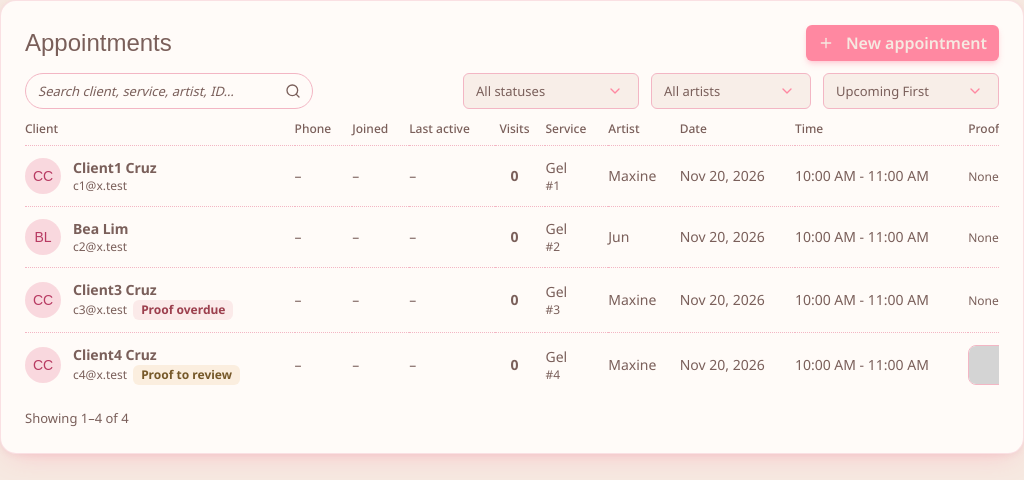
Scenario: Appointments table › searches by client, service, artist or ID
expect the table named "Appointments" is shown: met, box [25,121,999,397]
// The search asks the server once typing pauses
Type "bea" into the search field named "Search appointments" at (169, 91), box [25,73,313,109]
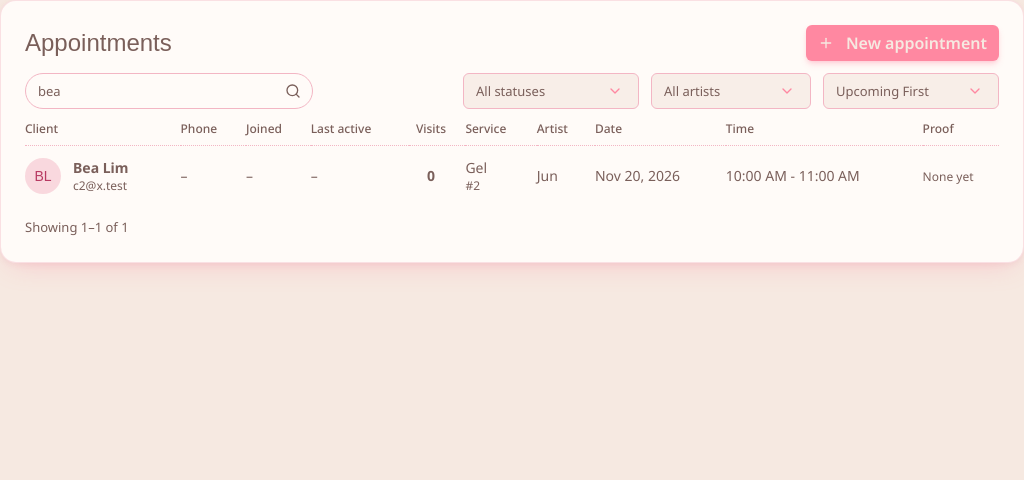
Replace the text in the search field named "Search appointments" with "#3" at (169, 91), box [25,73,313,109]
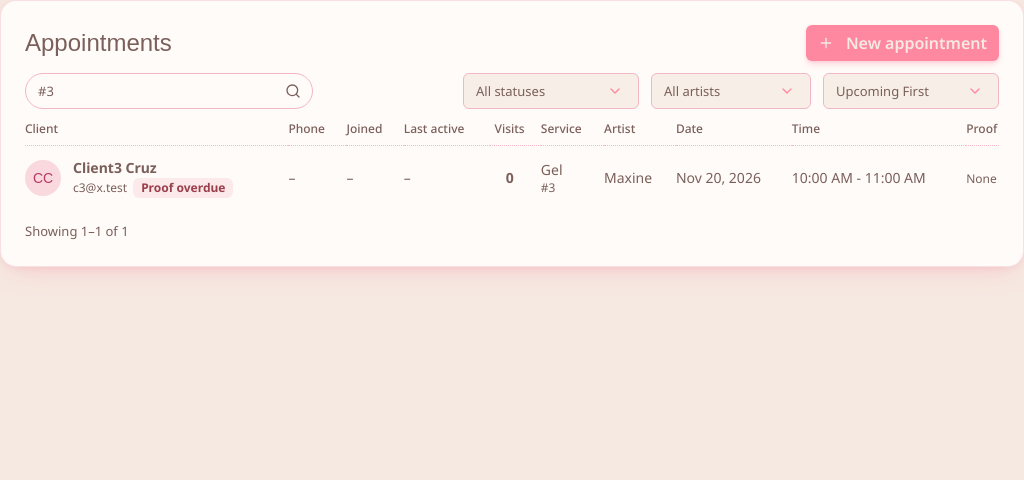
expect the text "#3" is shown: met, box [541,179,555,196]
Replace the text in the search field named "Search appointments" with "nobody" at (169, 91), box [25,73,313,109]
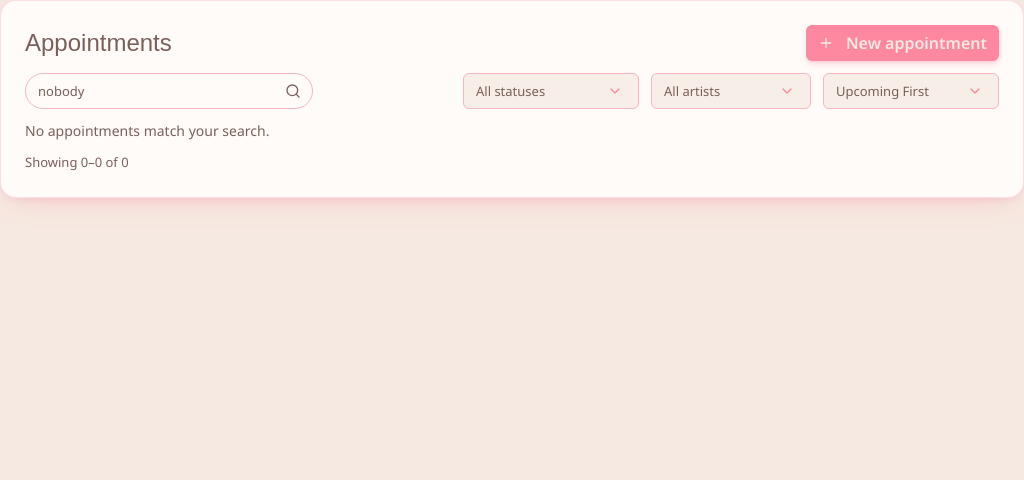
expect the text "No appointments match your search." is shown: met, box [25,121,269,140]
